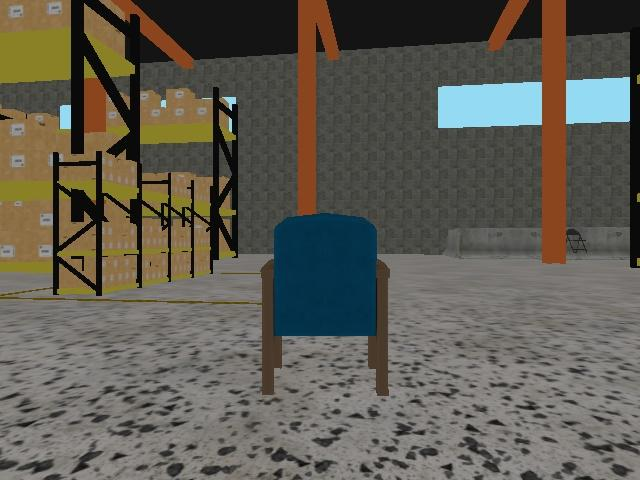chair: (259, 212, 391, 398)
